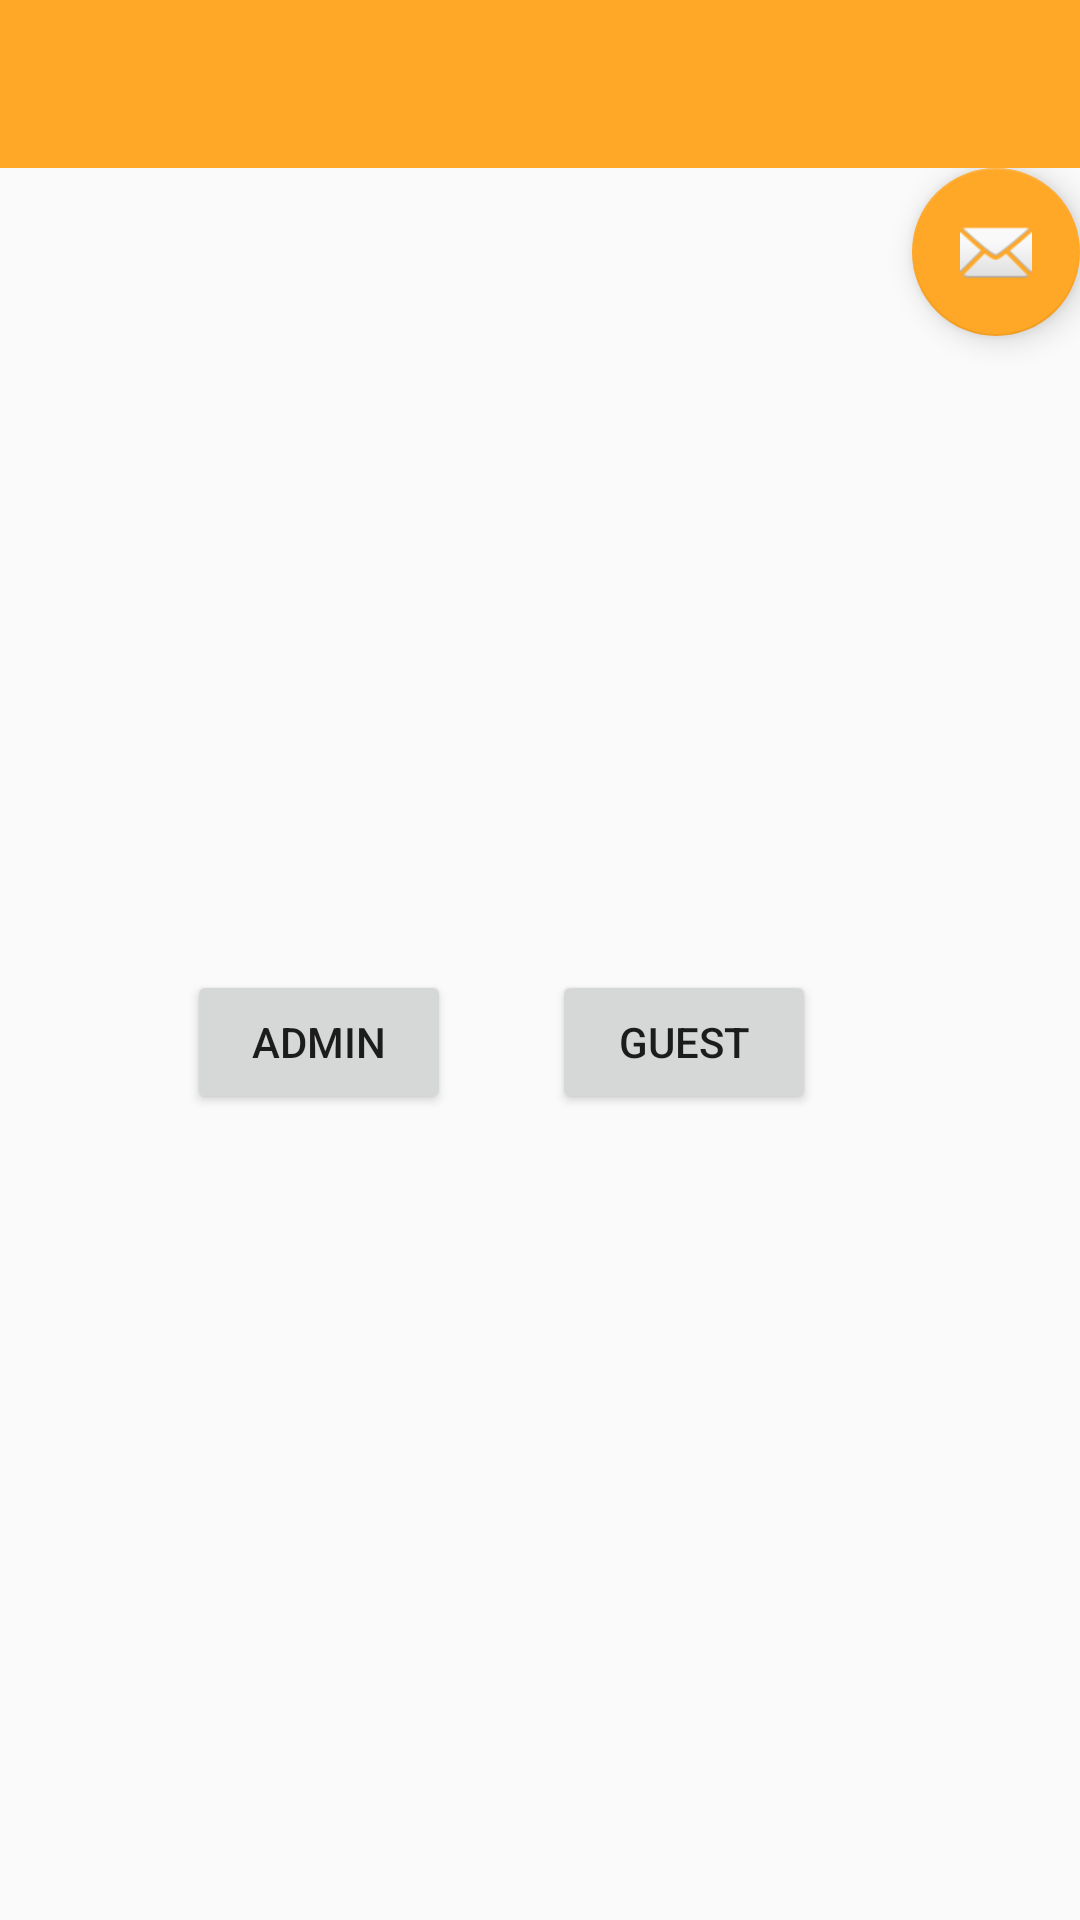

Where to tap for icons on this 1080px x 1920px app screen, as point (x, y):
email: point (996, 252)
